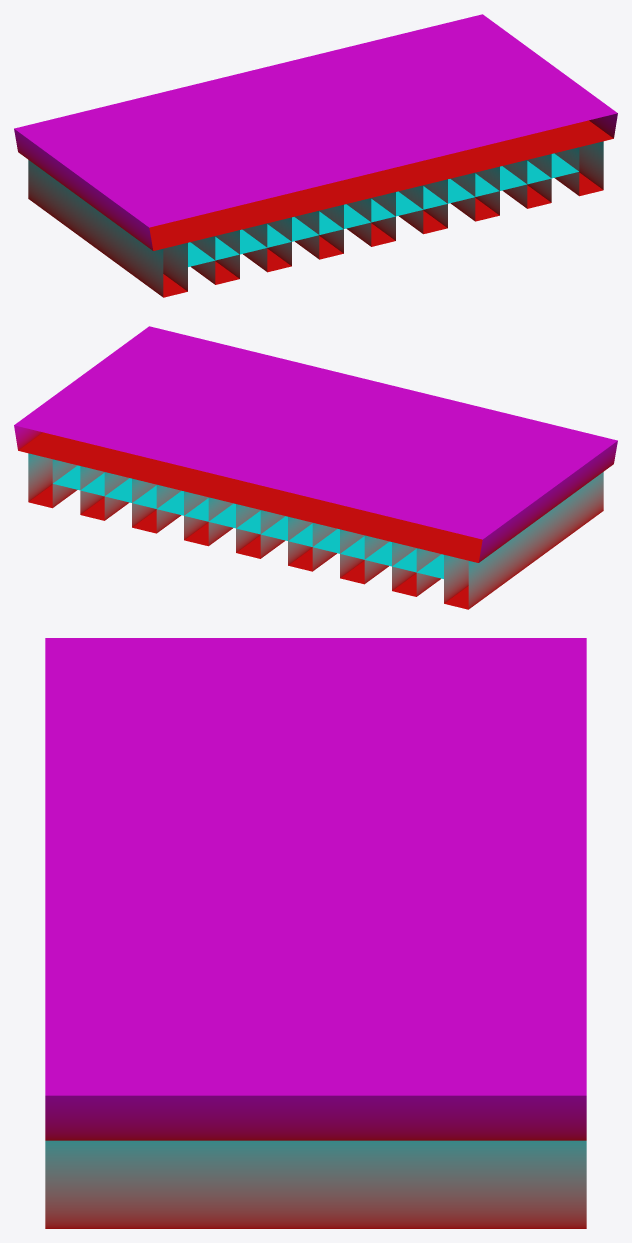
Rendered from Bangkok_Road_frame_01.fbx.
3 renders of one model, top to bottom at view 1: azimuth 30°, elevation 25°; view 2: azimuth 150°, elevation 25°; view 3: azimuth 270°, elevation 25°, orthographic. The views are drawn at different scales.
Visible parts, largest first — view 1: Bangkok_Road_frame_01; view 2: Bangkok_Road_frame_01; view 3: Bangkok_Road_frame_01.
Boxes of the visible parts, bbox=[...] form: Bangkok_Road_frame_01: bbox=[14, 14, 617, 297]; Bangkok_Road_frame_01: bbox=[14, 326, 617, 609]; Bangkok_Road_frame_01: bbox=[45, 638, 586, 1228].
Bounding box in the file's own units: 2000 × 300 × 1000.
